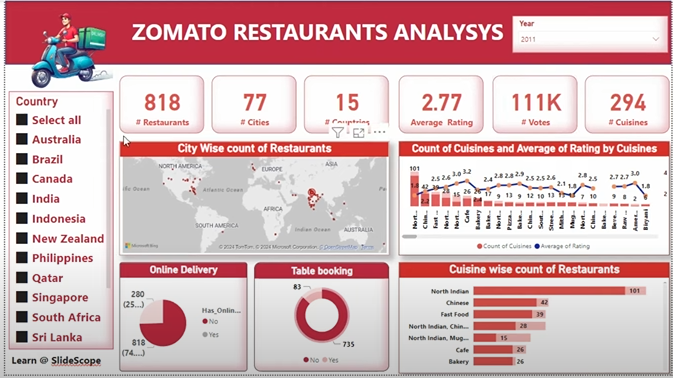

What the dashboard file says about the page in this screenshot:
{"tool":"powerbi","page":{"name":"Dashboard","canvas":[1280,720],"ordinal":0},"visuals":[{"type":"shape","box":[0,0,1280.4,122.9],"z":0},{"type":"image","box":[0,0,240.2,183.5],"z":1000},{"type":"textbox","box":[220,24.3,762.1,76],"z":2000},{"type":"card","fields":{"Values":["Count(restaurants.RestaurantID)"]},"box":[219.4,143.7,162.6,111.6],"z":3000},{"type":"card","fields":{"Values":["Count(restaurants.City)"]},"box":[397.2,143.7,162.6,111.6],"z":4000},{"type":"card","fields":{"Values":["Count(restaurants.CountryCode)"]},"box":[574.9,143.7,162.6,111.6],"z":5000},{"type":"card","fields":{"Values":["Avg(restaurants.Rating)"]},"box":[756.5,143.7,162.6,111.6],"z":6000},{"type":"card","fields":{"Values":["Sum(restaurants.Votes)"]},"box":[936.2,143.7,162.6,111.6],"z":7000},{"type":"card","fields":{"Values":["Count(restaurants.Cuisines)"]},"box":[1114,143.7,162.6,111.6],"z":8000},{"type":"slicer","fields":{"Values":["countries.country name"]},"box":[7.3,174.5,200.7,496],"z":9000},{"type":"lineStackedColumnComboChart","fields":{"Y":["CountNonNull(restaurants.Cuisines)"],"Category":["restaurants.Cuisines"],"Y2":["Avg(restaurants.Rating)"]},"box":[756.5,270.5,520.1,219.4],"z":10000},{"type":"map","title":"City Wise count of Restaurants","fields":{"Size":["CountNonNull(restaurants.RestaurantID)"],"Category":["restaurants.City"]},"box":[219.4,270.5,518.2,219.4],"z":11000},{"type":"clusteredBarChart","title":"Cuisine wise count of Restaurants","fields":{"Category":["restaurants.Cuisines"],"Y":["CountNonNull(restaurants.RestaurantID)"]},"box":[756.5,503.1,520.1,213.7],"z":12000},{"type":"pieChart","title":"Online Delivery","fields":{"Category":["restaurants.Has_Online_delivery"],"Y":["CountNonNull(restaurants.RestaurantID)"]},"box":[219.4,503.1,245.9,209.9],"z":13000},{"type":"donutChart","title":"Table booking ","fields":{"Category":["restaurants.Has_Table_booking"],"Y":["CountNonNull(restaurants.RestaurantID)"]},"box":[478.5,503.1,259.1,209.9],"z":14000},{"type":"slicer","fields":{"Values":["restaurants.Datekey_Opening.Variation.Date Hierarchy.Year"]},"box":[974,29.1,299.3,71.2],"z":15000},{"type":"textbox","box":[7.3,673.5,200.7,39.3],"z":16000}]}

Visuals, with their boxes in screenshot pixels (x1, y1, x2, y2), scaled from the page's 1280x720 canvas onto the 673x378 screenshot:
shape: 0/0/672/65
image: 0/0/126/96
textbox: 116/13/516/53
card - Count(restaurants.RestaurantID): 115/75/201/134
card - Count(restaurants.City): 209/75/294/134
card - Count(restaurants.CountryCode): 302/75/388/134
card - Avg(restaurants.Rating): 398/75/483/134
card - Sum(restaurants.Votes): 492/75/578/134
card - Count(restaurants.Cuisines): 586/75/671/134
slicer - countries.country name: 4/92/109/352
lineStackedColumnComboChart - CountNonNull(restaurants.Cuisines) x restaurants.Cuisines: 398/142/671/257
"City Wise count of Restaurants" map: 115/142/388/257
"Cuisine wise count of Restaurants" clusteredBarChart: 398/264/671/376
"Online Delivery" pieChart: 115/264/245/374
"Table booking " donutChart: 252/264/388/374
slicer - restaurants.Datekey_Opening.Variation.Date Hierarchy.Year: 512/15/669/53
textbox: 4/354/109/374
